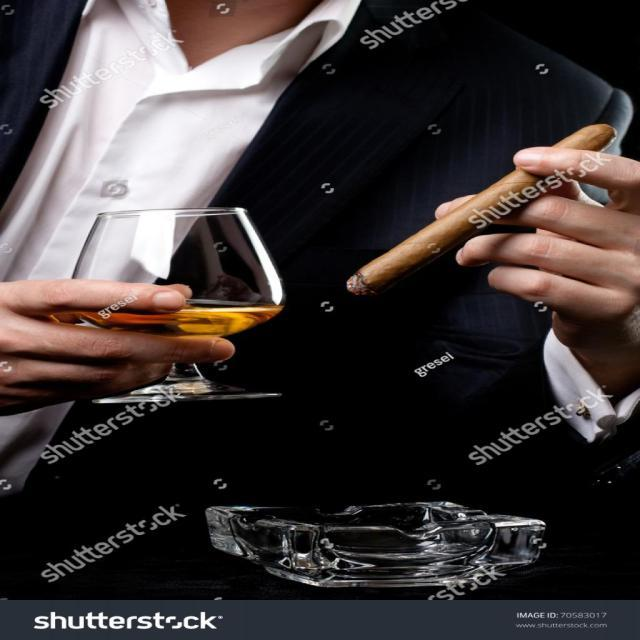smoking: (339, 147, 574, 307), (554, 124, 617, 151)
